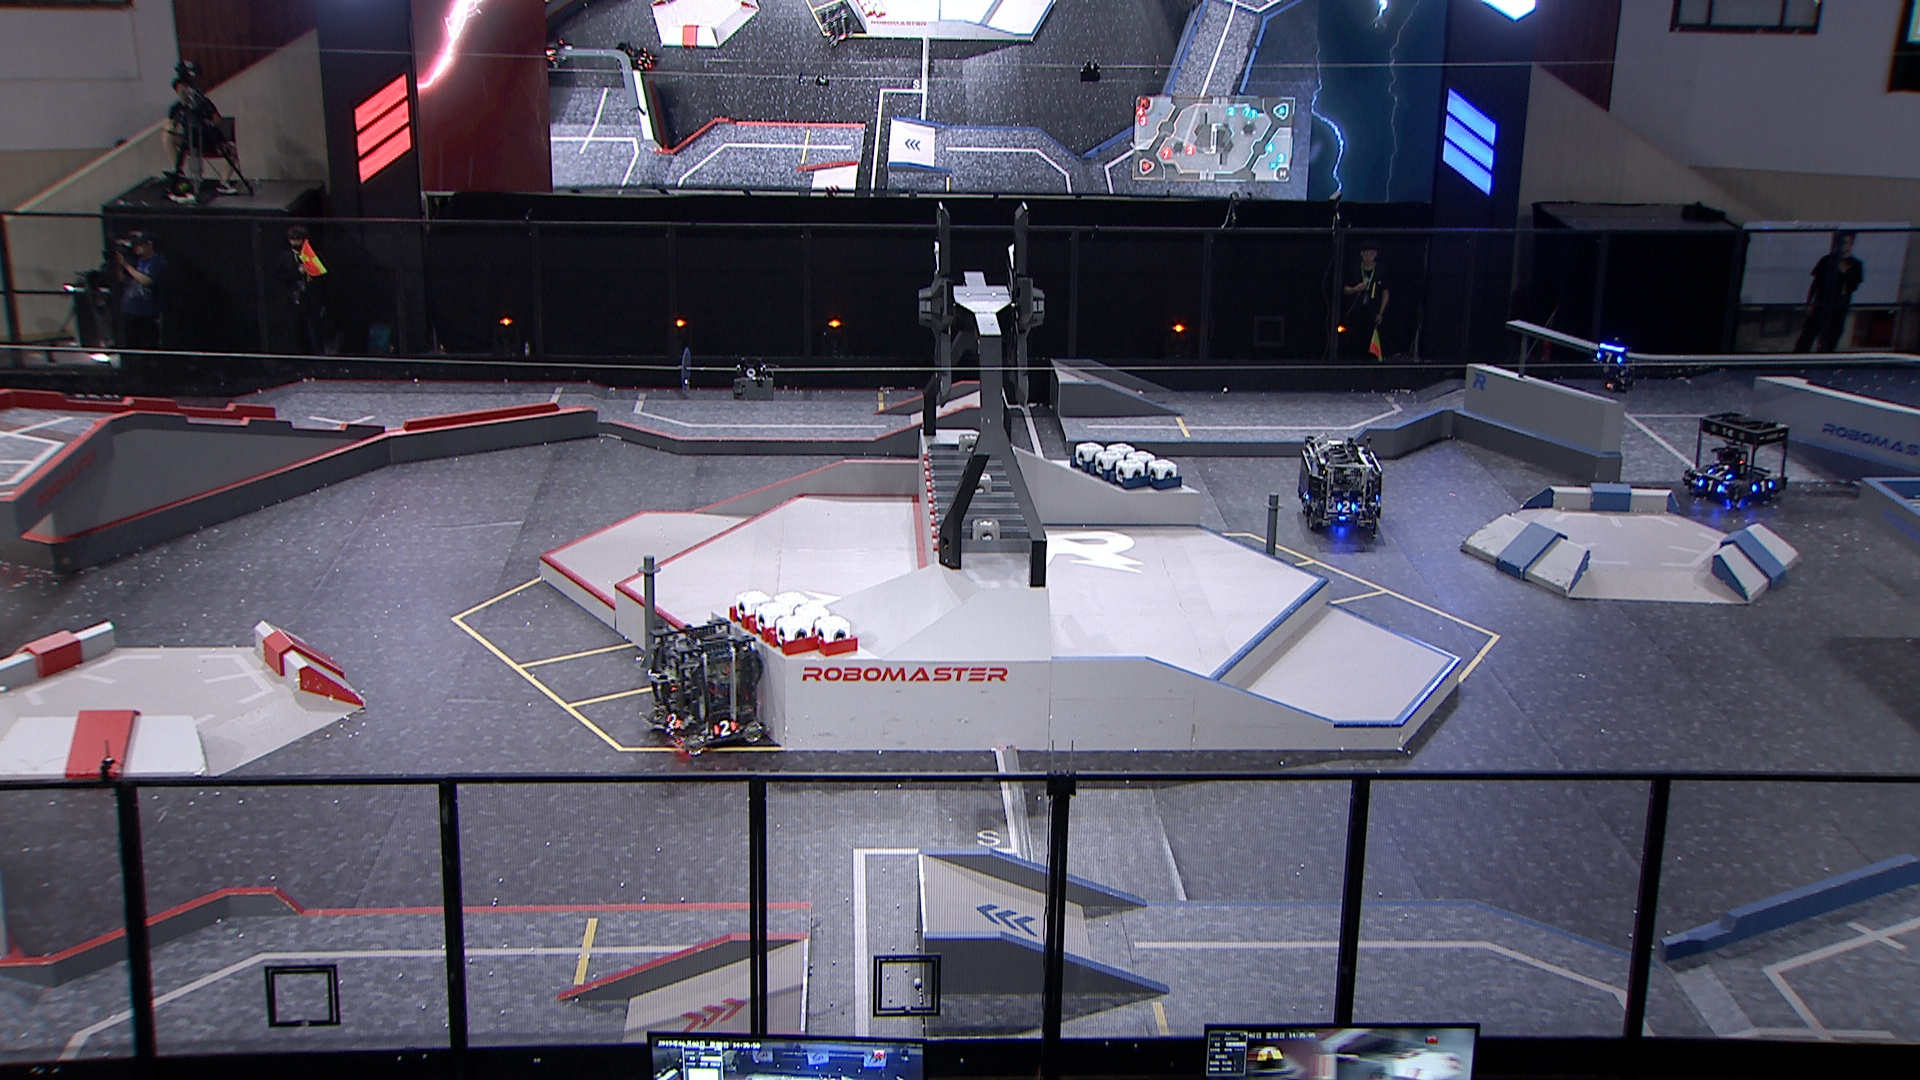armor: (713, 719, 741, 737), (1693, 476, 1721, 495), (1596, 351, 1621, 367), (1706, 465, 1731, 481), (665, 711, 684, 731), (1753, 480, 1774, 493), (1335, 498, 1356, 510), (1300, 488, 1313, 500)
car: (642, 615, 769, 756), (1679, 409, 1789, 508), (1296, 429, 1387, 541)
ignore: (618, 40, 657, 71), (541, 44, 570, 69)
watcher: (1590, 334, 1636, 398)
